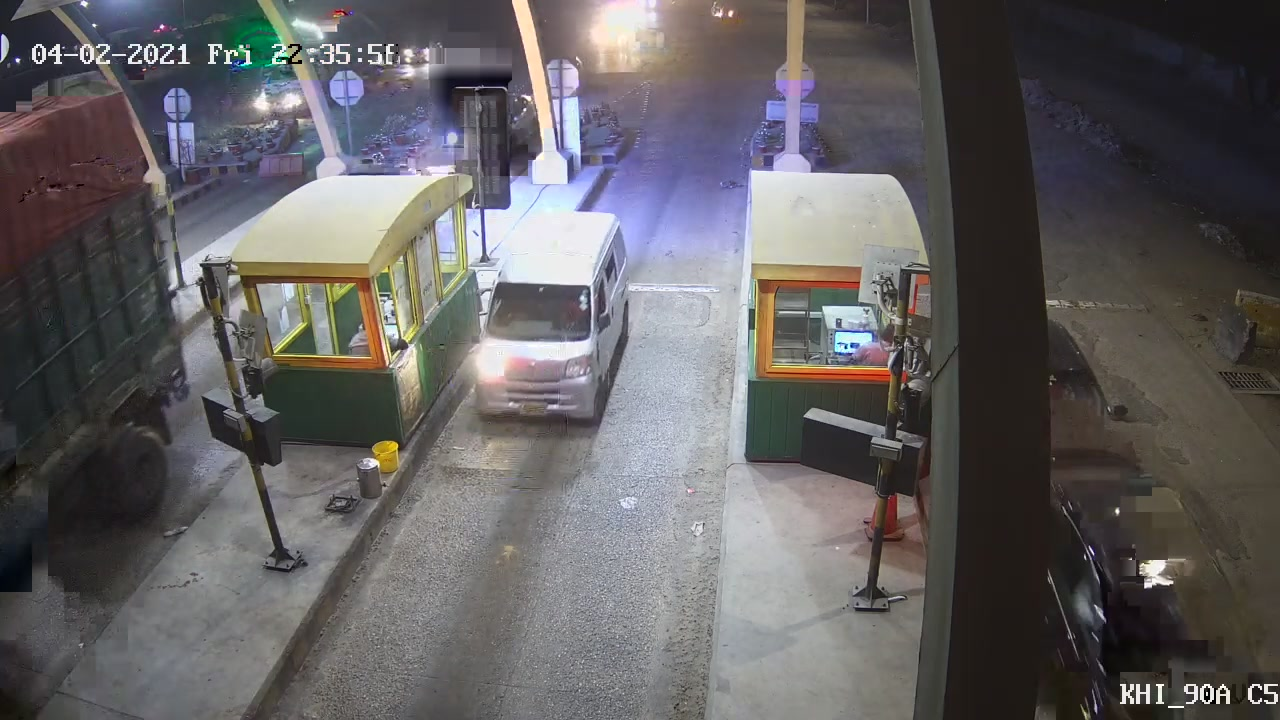F1: (471, 208, 634, 426)
